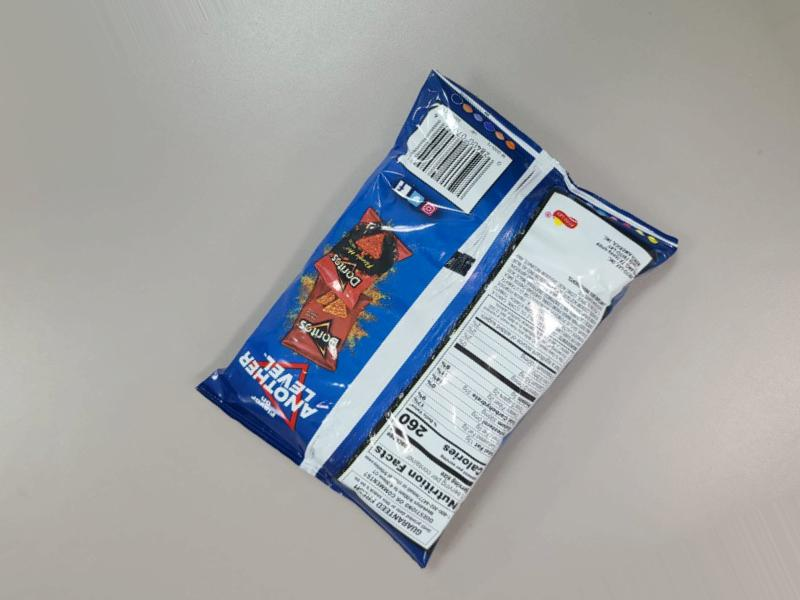doritos: (274, 60, 738, 600)
